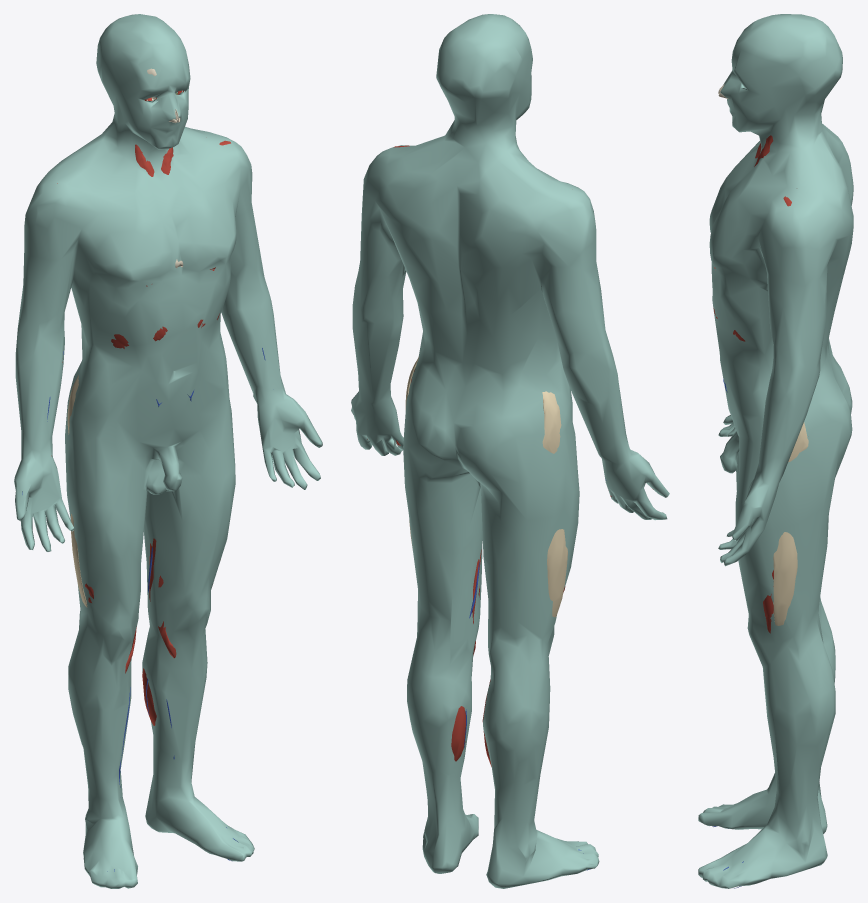
Rendered from body.glb.
The picture shows the model from 3 angles, left to right: view 1: azimuth 30°, elevation 25°; view 2: azimuth 150°, elevation 25°; view 3: azimuth 270°, elevation 25°; orthographic projection. The views are drawn at different scales.
Parts seen in each view (by area): view 1: skin|#9fc9c1|, muscular|#ecdcb8|hip_r,knee_r; view 2: skin|#9fc9c1|, muscular|#ecdcb8|hip_r,knee_r; view 3: skin|#9fc9c1|, muscular|#ecdcb8|hip_l,knee_l.
Part boxes in pixels (<box>): skin|#9fc9c1|: <box>14,14,322,888</box>; muscular|#ecdcb8|hip_r,knee_r: <box>67,375,87,607</box>; skin|#9fc9c1|: <box>351,14,669,888</box>; muscular|#ecdcb8|hip_r,knee_r: <box>542,391,567,617</box>; skin|#9fc9c1|: <box>698,14,853,888</box>; muscular|#ecdcb8|hip_l,knee_l: <box>773,422,808,625</box>.
Size of the model in its own units: 0.6658 by 1.72 by 0.2909.
